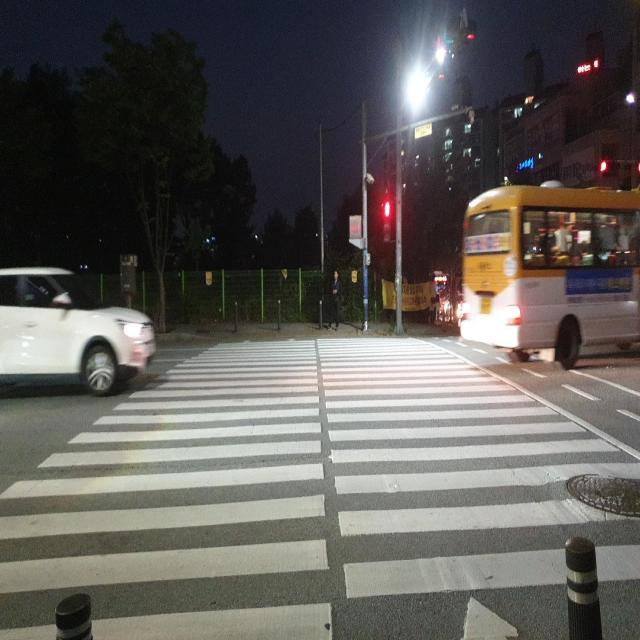횡단보도: (0, 333, 640, 639)
